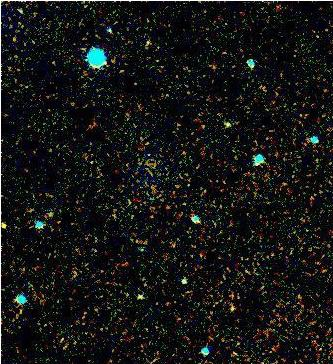star: (0, 218, 20, 248)
